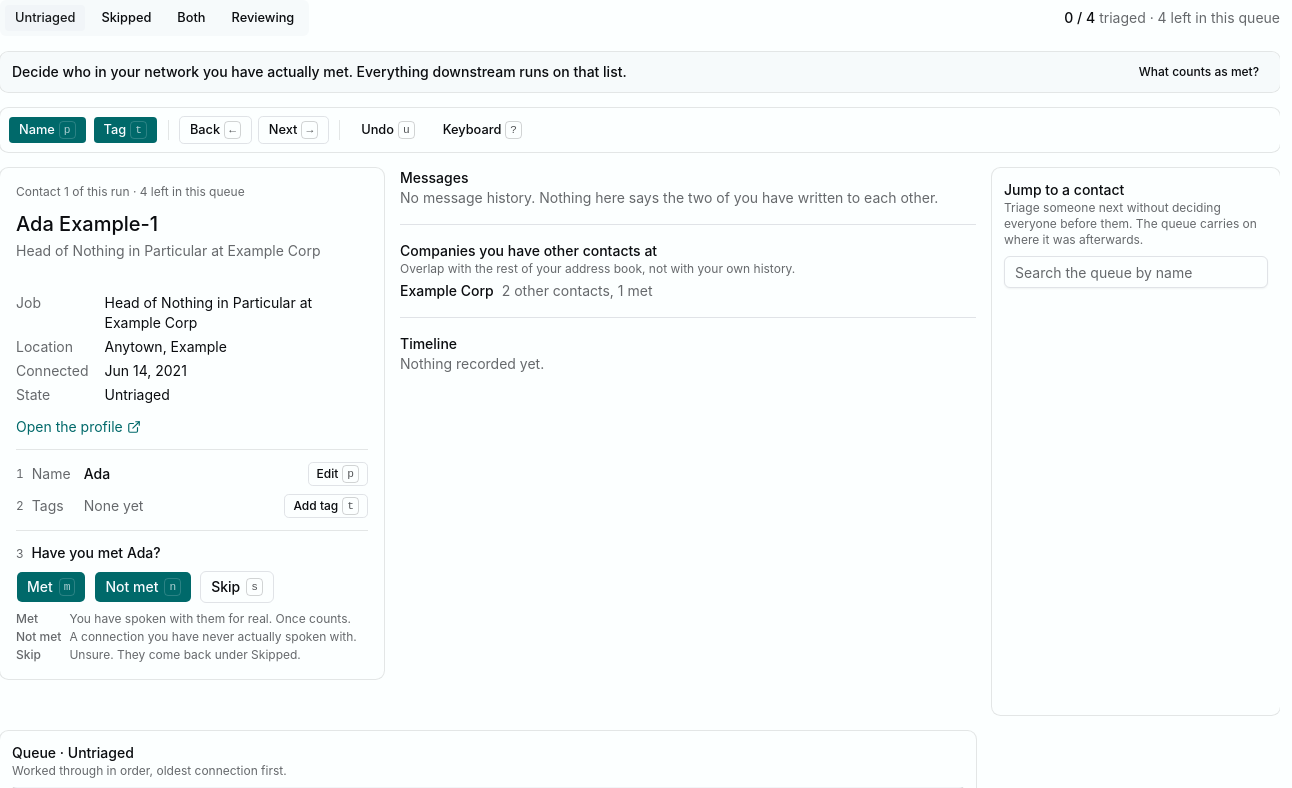
a decision that is not recorded › goes away when it is dismissed, and not before
Press m
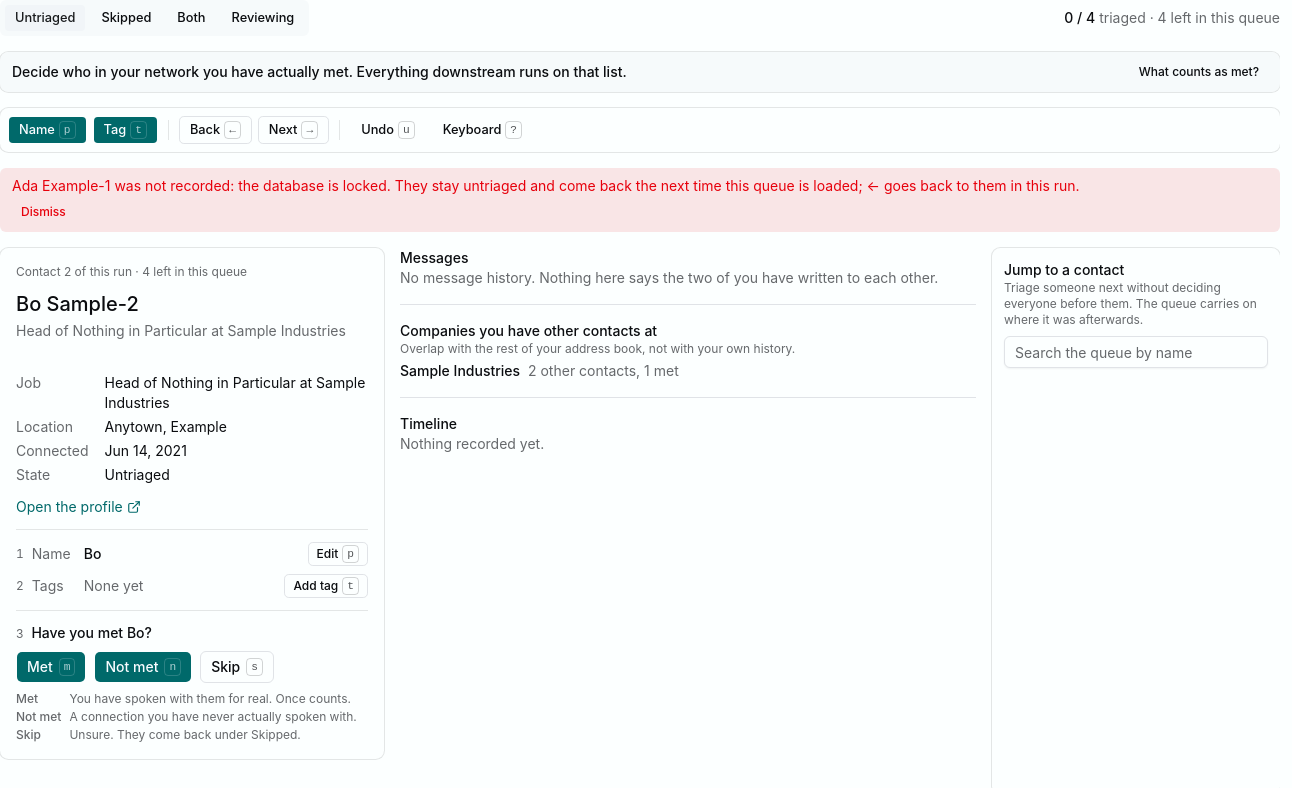
Click the button "Dismiss".
click(43, 212)  # box [12,200,75,224]
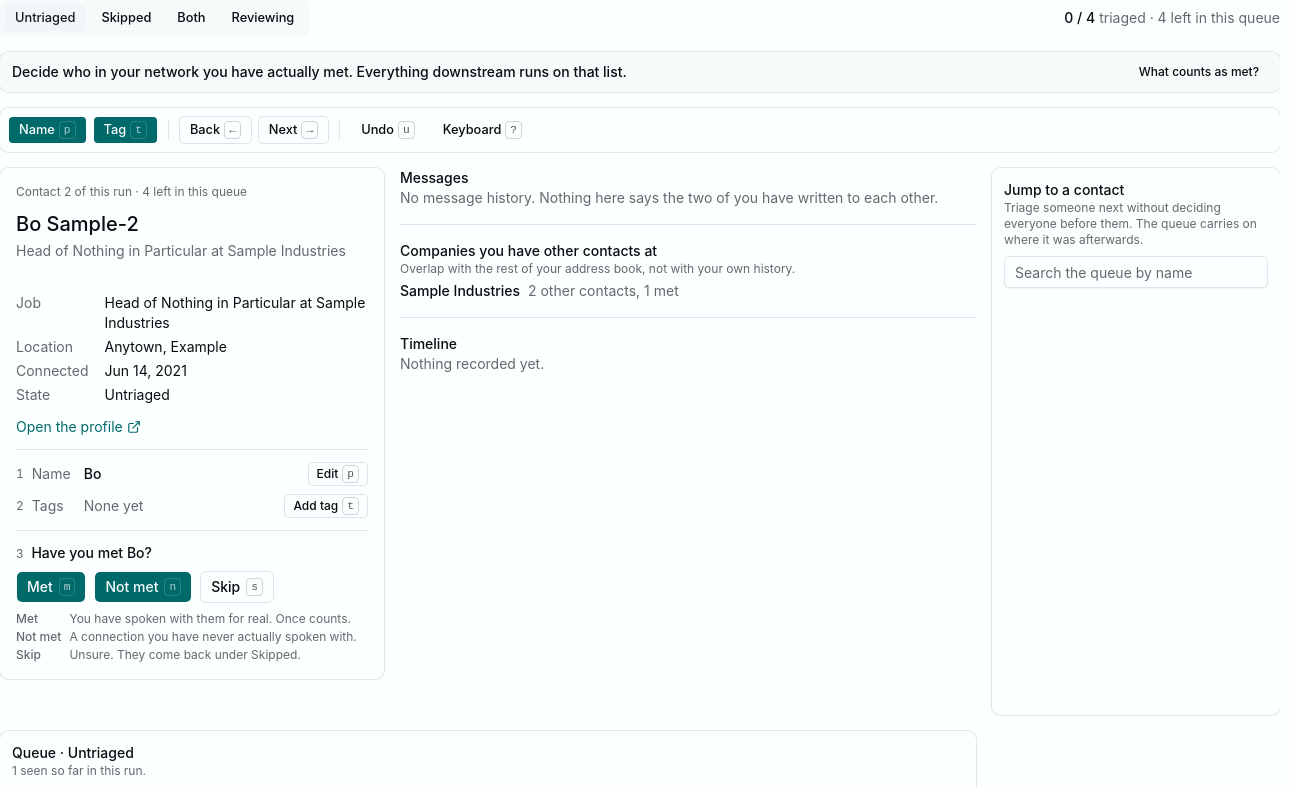
Expected: the message "Ada Example-1 was not recorded: the database is locked. They stay untriaged and" is gone
